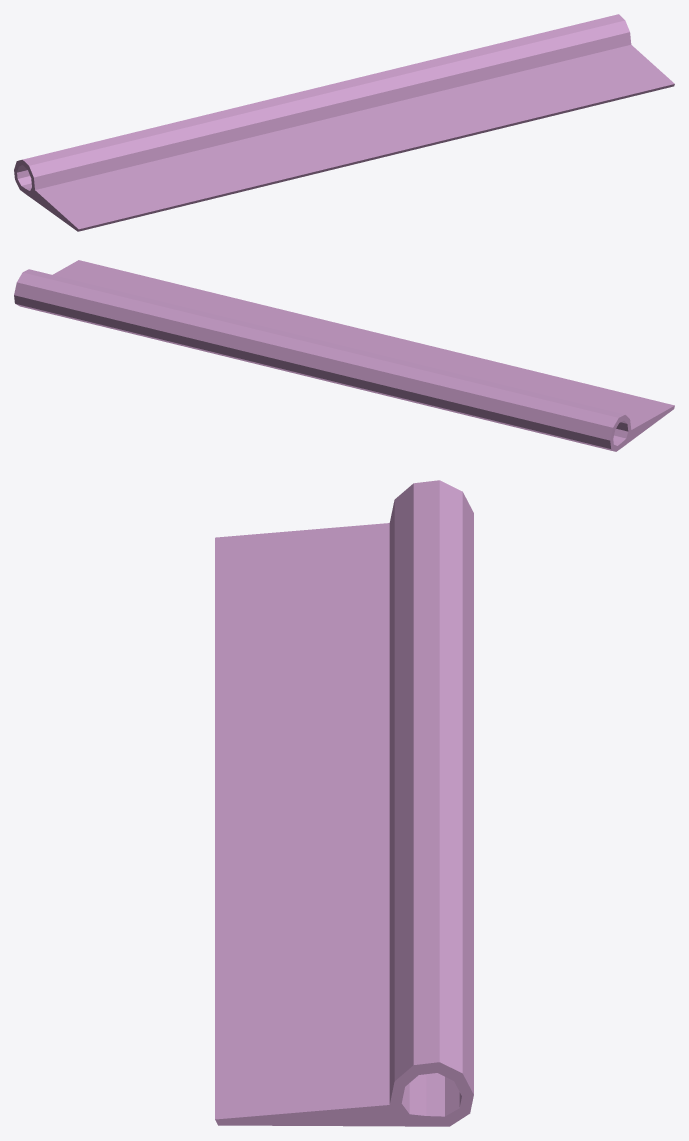
File: Mouse_TailNoseFelt_01.fbx
3 views of the same model, one above another, from view 1: azimuth 30°, elevation 25°; view 2: azimuth 150°, elevation 25°; view 3: azimuth 270°, elevation 25° (orthographic). The views are drawn at different scales.
Parts seen in each view (by area): view 1: TailNose_Felt_01; view 2: TailNose_Felt_01; view 3: TailNose_Felt_01.
Boxes of the visible parts, left/top/right/bottom form: TailNose_Felt_01: left=14, top=14, right=674, bottom=231; TailNose_Felt_01: left=14, top=260, right=674, bottom=451; TailNose_Felt_01: left=215, top=480, right=473, bottom=1126.
Size of the model in its own units: 6.94 by 0.3596 by 1.31.
